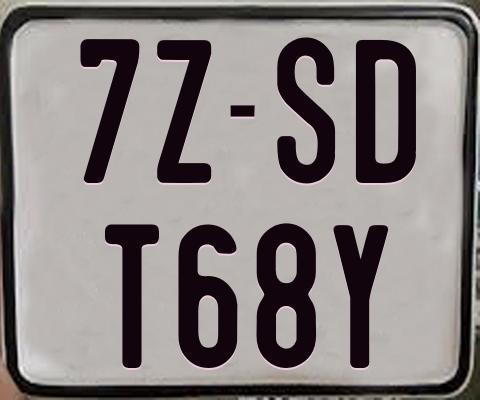6: (178, 223, 240, 373)
7: (79, 38, 142, 182)
8: (253, 223, 317, 372)
D: (356, 40, 418, 189)
S: (275, 36, 334, 188)
T: (104, 221, 158, 365)
Y: (333, 223, 389, 367)
Z: (156, 40, 213, 186)
